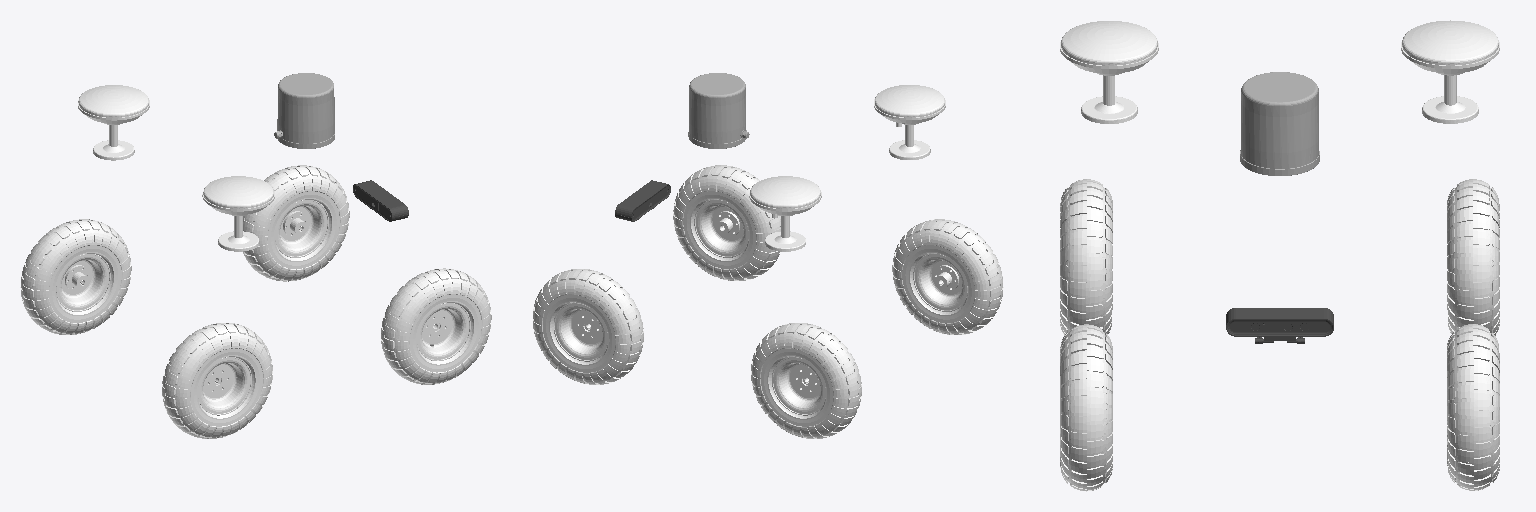
URDF robot description (outdoor_robot_dual_antenna):
<?xml version="1.0" encoding="utf-8"?>
<!-- This URDF was automatically created by SolidWorks to URDF Exporter! Originally created by [author] ([email redacted]) 
     Commit Version: 1.6.0-4-g7f85cfe  Build Version: 1.6.7995.38578
     For more information, please see http://wiki.ros.org/sw_urdf_exporter -->
<robot
  name="outdoor_robot_dual_antenna">
  <link
    name="base_link">
    <inertial>
      <origin
        xyz="-0.07201 0.014272 0.080504"
        rpy="0 0 0" />
      <mass
        value="12.258" />
      <inertia
        ixx="0.12737"
        ixy="6.3543E-05"
        ixz="-0.00080332"
        iyy="0.087659"
        iyz="-2.0279E-05"
        izz="0.19113" />
    </inertial>
    <visual>
      <origin
        xyz="0 0 0"
        rpy="0 0 0" />
      <geometry>
        <mesh
          filename="package://wheeltec_robot_urdf/meshes/autoware_top_akm_dual_antenna_meshes/base_link.STL" />
      </geometry>
      <material
        name="">
        <color
          rgba="0.74118 0.90196 0.95686 1" />
      </material>
    </visual>
    <collision>
      <origin
        xyz="0 0 0"
        rpy="0 0 0" />
      <geometry>
        <mesh
          filename="package://wheeltec_robot_urdf/meshes/autoware_top_akm_dual_antenna_meshes/base_link.STL" />
      </geometry>
    </collision>
  </link>
  <link
    name="rf_wheel_link">
    <inertial>
      <origin
        xyz="-8.2724E-05 0.0022363 -0.00021614"
        rpy="0 0 0" />
      <mass
        value="1.102" />
      <inertia
        ixx="0.0060143"
        ixy="-4.5653E-05"
        ixz="2.0628E-07"
        iyy="0.010609"
        iyz="-1.33E-05"
        izz="0.0060142" />
    </inertial>
    <visual>
      <origin
        xyz="0 0 0"
        rpy="0 0 0" />
      <geometry>
        <mesh
          filename="package://wheeltec_robot_urdf/meshes/autoware_top_akm_dual_antenna_meshes/rf_wheel_link.STL" />
      </geometry>
      <material
        name="">
        <color
          rgba="1 1 1 1" />
      </material>
    </visual>
    <collision>
      <origin
        xyz="0 0 0"
        rpy="0 0 0" />
      <geometry>
        <mesh
          filename="package://wheeltec_robot_urdf/meshes/autoware_top_akm_dual_antenna_meshes/rf_wheel_link.STL" />
      </geometry>
    </collision>
  </link>
  <joint
    name="rf_wheel_joint"
    type="continuous">
    <origin
      xyz="0.31685 -0.29694 0.0070471"
      rpy="0 0 0" />
    <parent
      link="base_link" />
    <child
      link="rf_wheel_link" />
    <axis
      xyz="0.0099678 -0.99995 -0.0028981" />
  </joint>
  <link
    name="rb_wheel_link">
    <inertial>
      <origin
        xyz="1.99742685613735E-07 0.00223897036079174 0.00020380004580535"
        rpy="0 0 0" />
      <mass
        value="1.10203492512855" />
      <inertia
        ixx="0.00601385054971674"
        ixy="-1.32836436860679E-08"
        ixz="-2.30876145541355E-09"
        iyy="0.0106089480246942"
        iyz="-2.96008728378449E-05"
        izz="0.00601432799521864" />
    </inertial>
    <visual>
      <origin
        xyz="0 0 0"
        rpy="0 0 0" />
      <geometry>
        <mesh
          filename="package://wheeltec_robot_urdf/meshes/autoware_top_akm_dual_antenna_meshes/rb_wheel_link.STL" />
      </geometry>
      <material
        name="">
        <color
          rgba="1 1 1 1" />
      </material>
    </visual>
    <collision>
      <origin
        xyz="0 0 0"
        rpy="0 0 0" />
      <geometry>
        <mesh
          filename="package://wheeltec_robot_urdf/meshes/autoware_top_akm_dual_antenna_meshes/rb_wheel_link.STL" />
      </geometry>
    </collision>
  </link>
  <joint
    name="rb_wheel_joint"
    type="continuous">
    <origin
      xyz="-0.21055 -0.29724 0.0050309"
      rpy="0 0 0" />
    <parent
      link="base_link" />
    <child
      link="rb_wheel_link" />
    <axis
      xyz="0 0.99998 -0.0064377" />
  </joint>
  <link
    name="lf_wheel_link">
    <inertial>
      <origin
        xyz="2.00675460826361E-05 -0.00223814609587303 0.000211713676485883"
        rpy="0 0 0" />
      <mass
        value="1.102034925596" />
      <inertia
        ixx="0.00601430737082184"
        ixy="-4.58157485536663E-05"
        ixz="-1.3327001802482E-07"
        iyy="0.0106086431733912"
        iyz="1.33362442070962E-05"
        izz="0.00601417603084709" />
    </inertial>
    <visual>
      <origin
        xyz="0 0 0"
        rpy="0 0 0" />
      <geometry>
        <mesh
          filename="package://wheeltec_robot_urdf/meshes/autoware_top_akm_dual_antenna_meshes/lf_wheel_link.STL" />
      </geometry>
      <material
        name="">
        <color
          rgba="1 1 1 1" />
      </material>
    </visual>
    <collision>
      <origin
        xyz="0 0 0"
        rpy="0 0 0" />
      <geometry>
        <mesh
          filename="package://wheeltec_robot_urdf/meshes/autoware_top_akm_dual_antenna_meshes/lf_wheel_link.STL" />
      </geometry>
    </collision>
  </link>
  <joint
    name="lf_wheel_joint"
    type="continuous">
    <origin
      xyz="0.31528 0.29699 0.0066081"
      rpy="0 0 0" />
    <parent
      link="base_link" />
    <child
      link="lf_wheel_link" />
    <axis
      xyz="0.0099678 -0.99995 -0.0028981" />
  </joint>
  <link
    name="lb_wheel_link">
    <inertial>
      <origin
        xyz="-3.00921013823841E-06 -0.00223897022781205 0.000203779393032247"
        rpy="0 0 0" />
      <mass
        value="1.10203492512723" />
      <inertia
        ixx="0.00601385053560425"
        ixy="-1.35187166532443E-08"
        ixz="-1.38526343147151E-09"
        iyy="0.010608948026917"
        iyz="2.96007001899775E-05"
        izz="0.00601432800710883" />
    </inertial>
    <visual>
      <origin
        xyz="0 0 0"
        rpy="0 0 0" />
      <geometry>
        <mesh
          filename="package://wheeltec_robot_urdf/meshes/autoware_top_akm_dual_antenna_meshes/lb_wheel_link.STL" />
      </geometry>
      <material
        name="">
        <color
          rgba="1 1 1 1" />
      </material>
    </visual>
    <collision>
      <origin
        xyz="0 0 0"
        rpy="0 0 0" />
      <geometry>
        <mesh
          filename="package://wheeltec_robot_urdf/meshes/autoware_top_akm_dual_antenna_meshes/lb_wheel_link.STL" />
      </geometry>
    </collision>
  </link>
  <joint
    name="lb_wheel_joint"
    type="continuous">
    <origin
      xyz="-0.21055 0.29728 0.0050309"
      rpy="0 0 0" />
    <parent
      link="base_link" />
    <child
      link="lb_wheel_link" />
    <axis
      xyz="0 0.99998 -0.0064377" />
  </joint>
  <link
    name="laser_link">
    <inertial>
      <origin
        xyz="-0.00019975838804856 -5.62033299802578E-06 0.0092747115861298"
        rpy="0 0 0" />
      <mass
        value="1.28006007522406" />
      <inertia
        ixx="0.00169622594656528"
        ixy="-2.17603717086209E-08"
        ixz="-8.58943182701468E-06"
        iyy="0.0017123703921267"
        iyz="-1.31977604062403E-07"
        izz="0.00204500985119737" />
    </inertial>
    <visual>
      <origin
        xyz="0 0 0"
        rpy="0 0 0" />
      <geometry>
        <mesh
          filename="package://wheeltec_robot_urdf/meshes/autoware_top_akm_dual_antenna_meshes/laser_link.STL" />
      </geometry>
      <material
        name="">
        <color
          rgba="0.752941176470588 0.752941176470588 0.752941176470588 1" />
      </material>
    </visual>
    <collision>
      <origin
        xyz="0 0 0"
        rpy="0 0 0" />
      <geometry>
        <mesh
          filename="package://wheeltec_robot_urdf/meshes/autoware_top_akm_dual_antenna_meshes/laser_link.STL" />
      </geometry>
    </collision>
  </link>
  <joint
    name="laser_joint"
    type="fixed">
    <origin
      xyz="0.17378 2.375E-05 0.3965"
      rpy="0 0 0" />
    <parent
      link="base_link" />
    <child
      link="laser_link" />
    <axis
      xyz="0 0 0" />
  </joint>
  <link
    name="camera_link">
    <inertial>
      <origin
        xyz="2.92587957917423E-07 0.000353993845807704 3.674048406066E-07"
        rpy="0 0 0" />
      <mass
        value="0.056458220481529" />
      <inertia
        ixx="0.000130864623434555"
        ixy="1.20384350303155E-07"
        ixz="1.6474427272883E-06"
        iyy="1.91783298717298E-05"
        iyz="-2.82675726788762E-08"
        izz="0.000131402505525389" />
    </inertial>
    <visual>
      <origin
        xyz="0 0 0"
        rpy="0 0 0" />
      <geometry>
        <mesh
          filename="package://wheeltec_robot_urdf/meshes/autoware_top_akm_dual_antenna_meshes/camera_link.STL" />
      </geometry>
      <material
        name="">
        <color
          rgba="0.376470588235294 0.376470588235294 0.376470588235294 1" />
      </material>
    </visual>
    <collision>
      <origin
        xyz="0 0 0"
        rpy="0 0 0" />
      <geometry>
        <mesh
          filename="package://wheeltec_robot_urdf/meshes/autoware_top_akm_dual_antenna_meshes/camera_link.STL" />
      </geometry>
    </collision>
  </link>
  <joint
    name="camera_joint"
    type="fixed">
    <origin
      xyz="0.3557 -0.00015325 0.16458"
      rpy="0 0 0" />
    <parent
      link="base_link" />
    <child
      link="camera_link" />
    <axis
      xyz="0 0 0" />
  </joint>
  <link
    name="left_mushroom_link">
    <inertial>
      <origin
        xyz="1.14319527430573E-06 -0.000108481007837335 -0.0289810907638313"
        rpy="0 0 0" />
      <mass
        value="0.705067820296359" />
      <inertia
        ixx="0.000838392865016739"
        ixy="9.57809994964931E-11"
        ixz="-8.55672766684439E-11"
        iyy="0.000840325925806544"
        iyz="-1.19748582928506E-06"
        izz="0.00143784262541869" />
    </inertial>
    <visual>
      <origin
        xyz="0 0 0"
        rpy="0 0 0" />
      <geometry>
        <mesh
          filename="package://wheeltec_robot_urdf/meshes/autoware_top_akm_dual_antenna_meshes/left_mushroom_link.STL" />
      </geometry>
      <material
        name="">
        <color
          rgba="1 1 1 1" />
      </material>
    </visual>
    <collision>
      <origin
        xyz="0 0 0"
        rpy="0 0 0" />
      <geometry>
        <mesh
          filename="package://wheeltec_robot_urdf/meshes/autoware_top_akm_dual_antenna_meshes/left_mushroom_link.STL" />
      </geometry>
    </collision>
  </link>
  <joint
    name="left_mushroom_joint"
    type="fixed">
    <origin
      xyz="-0.13979 0.26011 0.4187"
      rpy="0 0 0" />
    <parent
      link="base_link" />
    <child
      link="left_mushroom_link" />
    <axis
      xyz="0 0 0" />
  </joint>
  <link
    name="right_mushroom_link">
    <inertial>
      <origin
        xyz="0 0 0"
        rpy="0 0 0" />
      <mass
        value="0" />
      <inertia
        ixx="0"
        ixy="0"
        ixz="0"
        iyy="0"
        iyz="0"
        izz="0" />
    </inertial>
    <visual>
      <origin
        xyz="0 0 0"
        rpy="0 0 0" />
      <geometry>
        <mesh
          filename="package://wheeltec_robot_urdf/meshes/autoware_top_akm_dual_antenna_meshes/right_mushroom_link.STL" />
      </geometry>
      <material
        name="">
        <color
          rgba="1 1 1 1" />
      </material>
    </visual>
    <collision>
      <origin
        xyz="0 0 0"
        rpy="0 0 0" />
      <geometry>
        <mesh
          filename="package://wheeltec_robot_urdf/meshes/autoware_top_akm_dual_antenna_meshes/right_mushroom_link.STL" />
      </geometry>
    </collision>
  </link>
  <joint
    name="right_mushroom_joint"
    type="fixed">
    <origin
      xyz="-0.13897 -0.26016 0.4187"
      rpy="0 0 0" />
    <parent
      link="base_link" />
    <child
      link="right_mushroom_link" />
    <axis
      xyz="0 0 0" />
  </joint>
</robot>

--- Render facts (derived) ---
The picture shows the robot from 3 angles, left to right: view 1: azimuth 30°, elevation 25°; view 2: azimuth 150°, elevation 25°; view 3: azimuth 270°, elevation 25°; orthographic projection.
Robot: outdoor_robot_dual_antenna — 9 links, 8 joints (4 continuous, 4 fixed); root link base_link; default pose: all joints at 0.
Links seen in each view (by area): view 1: rb_wheel_link, rf_wheel_link, lb_wheel_link, lf_wheel_link, laser_link, right_mushroom_link, left_mushroom_link, camera_link; view 2: lf_wheel_link, lb_wheel_link, rb_wheel_link, rf_wheel_link, laser_link, left_mushroom_link, right_mushroom_link, camera_link; view 3: rf_wheel_link, lf_wheel_link, laser_link, rb_wheel_link, lb_wheel_link, left_mushroom_link, right_mushroom_link, camera_link.
Boxes of the visible links, box(x1,y1,x2,y2) form: rb_wheel_link: box(162, 323, 272, 438); rf_wheel_link: box(381, 268, 491, 384); lb_wheel_link: box(20, 219, 131, 334); lf_wheel_link: box(243, 165, 349, 281); laser_link: box(274, 73, 334, 148); right_mushroom_link: box(202, 176, 274, 251); left_mushroom_link: box(78, 85, 149, 160); camera_link: box(353, 180, 408, 221); lf_wheel_link: box(533, 269, 643, 384); lb_wheel_link: box(751, 323, 861, 438); rb_wheel_link: box(892, 219, 1003, 334); rf_wheel_link: box(673, 165, 780, 280); laser_link: box(688, 73, 749, 148); left_mushroom_link: box(749, 176, 821, 251); right_mushroom_link: box(874, 85, 945, 159); camera_link: box(615, 180, 670, 221); rf_wheel_link: box(1060, 324, 1112, 491); lf_wheel_link: box(1447, 324, 1499, 490); laser_link: box(1240, 72, 1319, 175); rb_wheel_link: box(1060, 179, 1112, 335); lb_wheel_link: box(1447, 179, 1499, 335); left_mushroom_link: box(1401, 20, 1499, 123); right_mushroom_link: box(1060, 21, 1158, 123); camera_link: box(1226, 308, 1333, 343).
Size in the robot's own frame: 0.7823 by 0.6719 by 0.6023 metres.
8 mesh visuals loaded from 9 distinct referenced files (8 binary STL); not drawn: 1 (reference not matched to a file when rendering).
